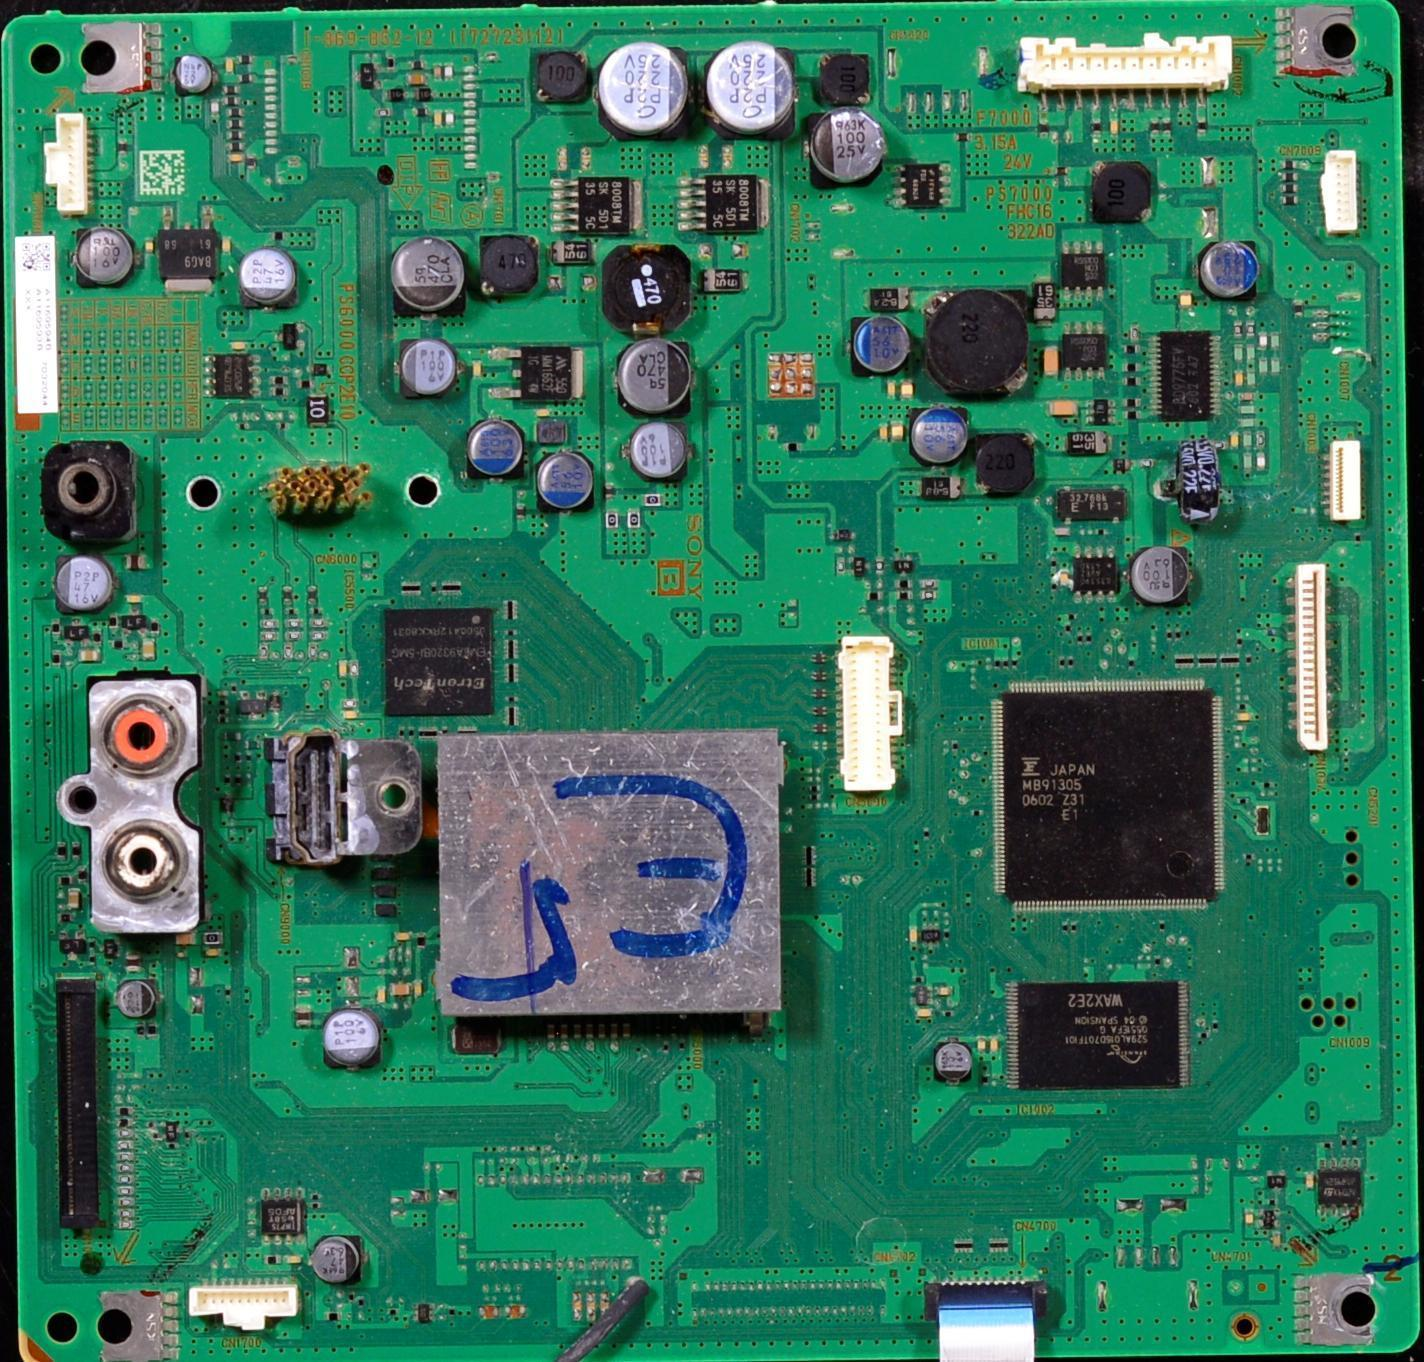Capacitor: (591, 39, 703, 138), (378, 224, 476, 327), (708, 43, 799, 139), (608, 333, 705, 416), (229, 245, 322, 313), (396, 339, 462, 413), (905, 407, 974, 475), (320, 1007, 390, 1075), (44, 552, 119, 614), (534, 447, 596, 520), (624, 425, 700, 484), (67, 229, 145, 287), (847, 314, 914, 380), (462, 418, 533, 480), (915, 1040, 981, 1089), (167, 51, 214, 103), (116, 980, 162, 1022), (1038, 338, 1061, 387), (549, 142, 577, 173), (871, 415, 891, 452), (391, 922, 421, 948), (1171, 285, 1192, 317), (1044, 396, 1080, 415), (176, 929, 204, 953), (901, 920, 922, 950), (77, 647, 109, 667), (66, 882, 87, 912), (139, 636, 162, 661), (332, 656, 352, 684), (1296, 1169, 1318, 1193), (391, 980, 417, 1002), (534, 401, 557, 423), (1239, 1203, 1256, 1232), (474, 352, 491, 383), (1106, 113, 1125, 139), (403, 73, 436, 86), (696, 145, 715, 169), (375, 984, 392, 1011), (220, 234, 239, 257), (900, 378, 916, 406), (891, 419, 905, 449), (1230, 426, 1246, 451), (933, 984, 960, 999), (1268, 1229, 1284, 1252), (122, 591, 147, 606), (581, 144, 594, 173), (339, 705, 364, 720), (974, 1032, 988, 1058), (724, 144, 737, 169), (884, 378, 898, 403), (1233, 389, 1261, 402), (220, 53, 238, 73), (144, 236, 159, 257), (416, 976, 428, 1000), (1232, 365, 1246, 387), (916, 1008, 938, 1021), (226, 152, 251, 164), (433, 110, 445, 131), (202, 951, 226, 961), (230, 339, 250, 351), (988, 1035, 999, 1054)
Connector: (1262, 556, 1371, 773), (994, 21, 1254, 101), (829, 631, 913, 801), (186, 1277, 318, 1345), (1313, 438, 1383, 537), (39, 112, 103, 219), (1313, 146, 1366, 254)
IC: (987, 685, 1239, 916), (1004, 979, 1204, 1097), (371, 602, 503, 720), (492, 339, 594, 410), (679, 171, 784, 237), (551, 174, 653, 239)
Resistor: (807, 104, 889, 199), (1085, 115, 1106, 139), (953, 130, 981, 147), (1119, 394, 1151, 409), (863, 588, 887, 607), (370, 106, 396, 123), (51, 842, 71, 863), (1162, 113, 1179, 138), (1276, 155, 1303, 170), (69, 840, 86, 863), (1119, 407, 1149, 420), (1120, 360, 1143, 376), (1038, 115, 1052, 141), (1277, 192, 1306, 205), (868, 556, 889, 574), (1149, 115, 1162, 142), (442, 59, 455, 87), (1116, 342, 1139, 357), (1272, 170, 1304, 180), (1276, 182, 1302, 194), (1244, 318, 1257, 341), (896, 577, 917, 592), (1122, 372, 1146, 385), (225, 141, 247, 155), (1231, 320, 1245, 342), (348, 658, 362, 679), (75, 866, 93, 883), (1292, 297, 1306, 318), (269, 375, 294, 386), (1194, 116, 1207, 137), (298, 377, 316, 391), (236, 53, 256, 68), (413, 104, 430, 119), (238, 73, 256, 86), (226, 106, 246, 118), (57, 874, 76, 887), (444, 111, 455, 131), (836, 555, 847, 577), (408, 61, 431, 71), (226, 130, 244, 142), (223, 85, 243, 95), (900, 590, 918, 602), (386, 55, 398, 72), (225, 117, 246, 126), (271, 388, 288, 397), (227, 95, 241, 104)
